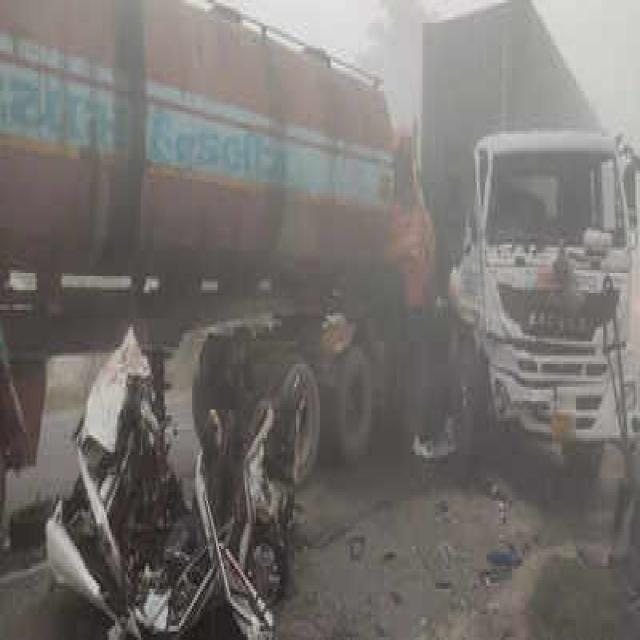accident: (419, 0, 629, 480)
